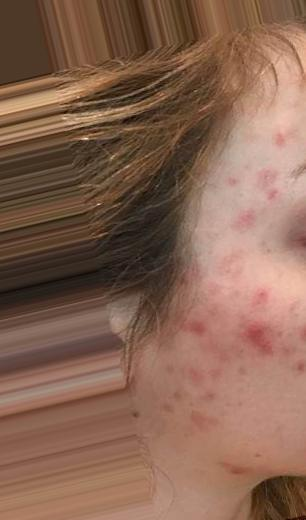Acne: (255, 132, 298, 222), (242, 320, 290, 384), (235, 263, 291, 316), (175, 310, 227, 352), (225, 185, 260, 240)
